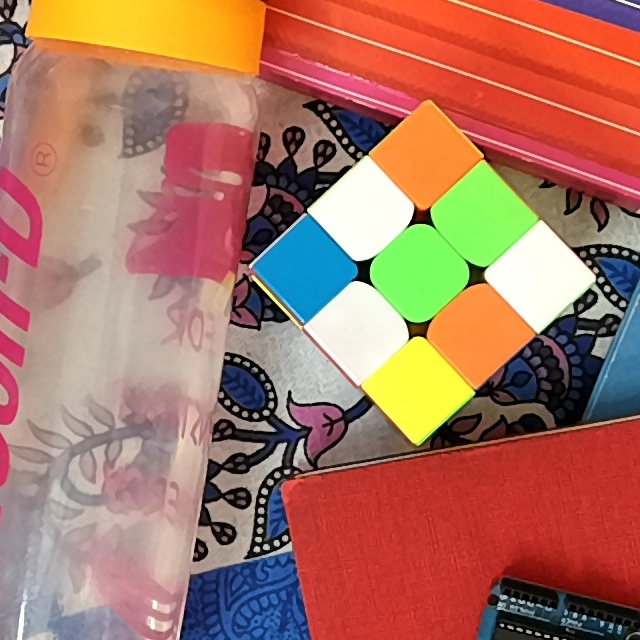tile: (393, 243, 448, 301), (449, 305, 504, 360), (455, 187, 509, 243), (336, 185, 390, 239), (335, 302, 387, 358), (280, 242, 331, 299), (511, 250, 566, 302), (399, 130, 451, 182), (393, 366, 443, 417)
